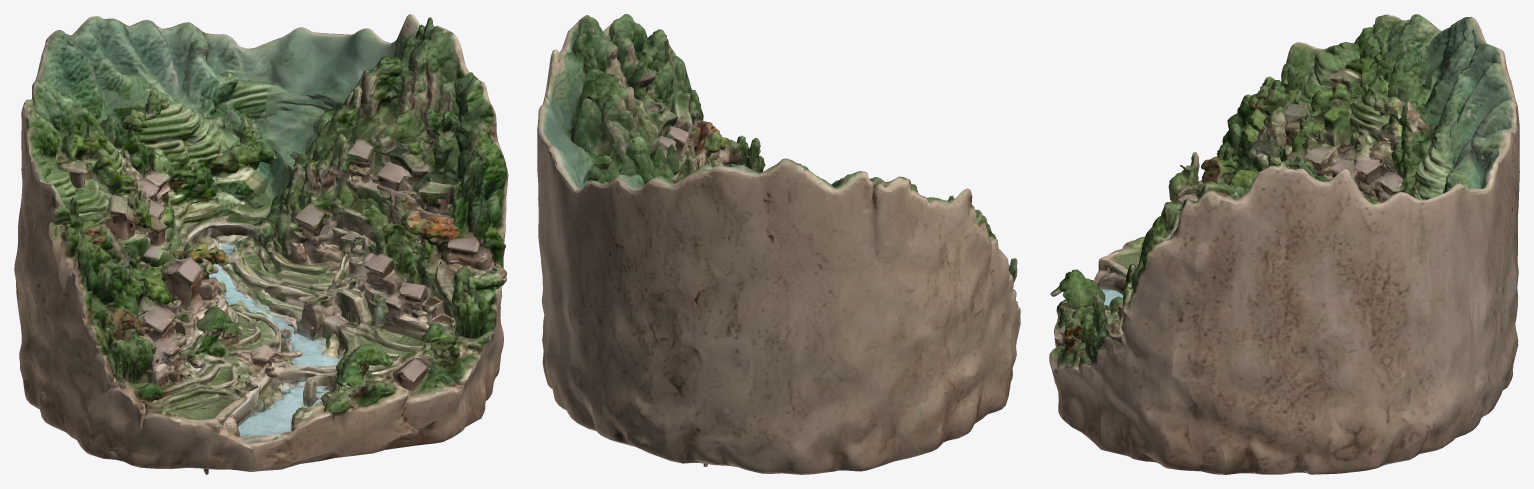
Rendered from xiajiang.min.glb.
3 renders of one model, left to right at view 1: azimuth 30°, elevation 25°; view 2: azimuth 150°, elevation 25°; view 3: azimuth 270°, elevation 25°, orthographic.
Visible parts, largest first — view 1: geometry_0; view 2: geometry_0; view 3: geometry_0.
Boxes of the visible parts, box(x1,y1,x2,y2) form: geometry_0: box(14, 14, 508, 474); geometry_0: box(537, 14, 1020, 474); geometry_0: box(1049, 14, 1519, 474).
Bounding box in the file's own units: 0.35 × 0.2716 × 0.3497.
1 material, 1 textured.
